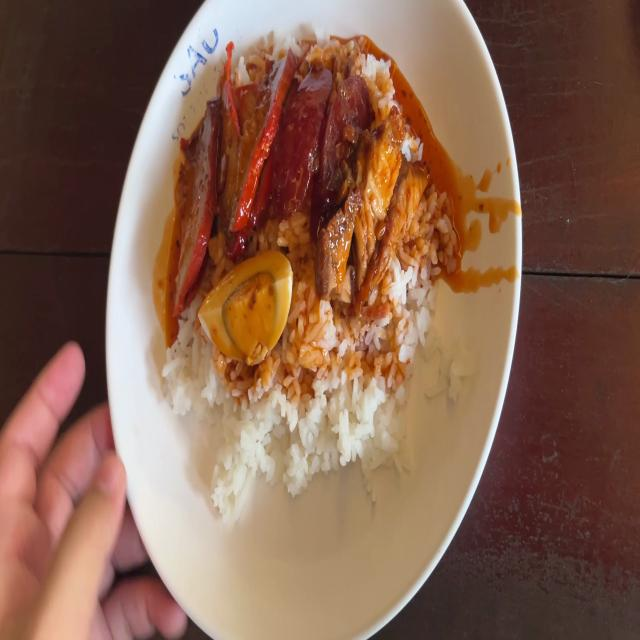red_pork_and_crispy_pork: (202, 250, 290, 356)
stir_fried_basil: (278, 67, 368, 207)
